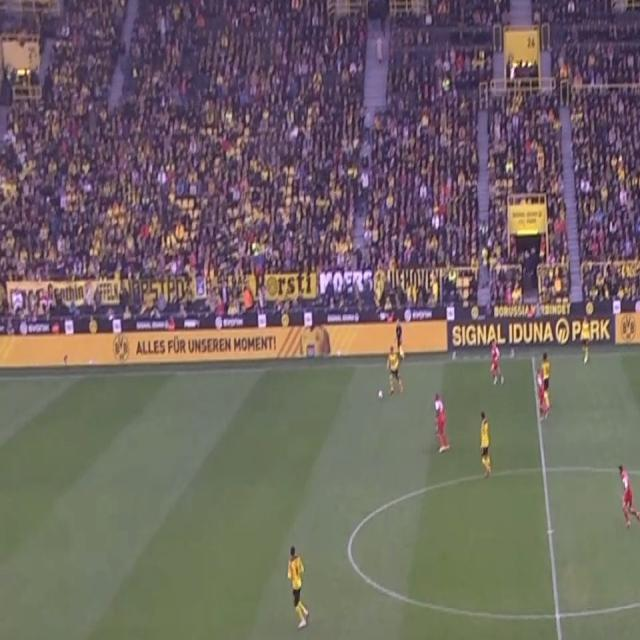ball: (378, 388, 384, 400)
